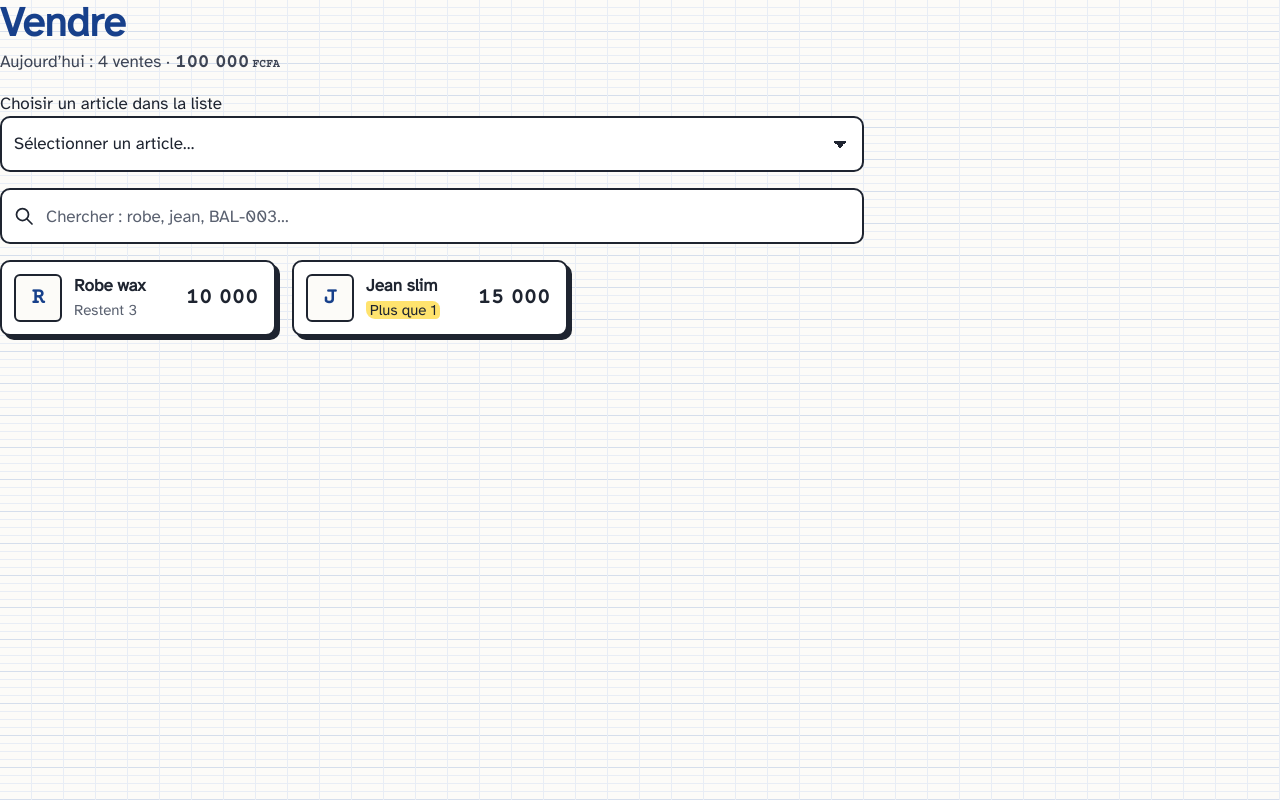
it: SalePage — the cart (phone) › a frozen cart refused for good (SQLSTATE) becomes editable again
The width and height of the screenshot is (1280, 800).
Expected: the text "Robe wax" is shown, x1=74 y1=275 x2=145 y2=296
Click the button "R Robe wax Restent 3 10 000" at (138,298), box x1=0 y1=260 x2=276 y2=336
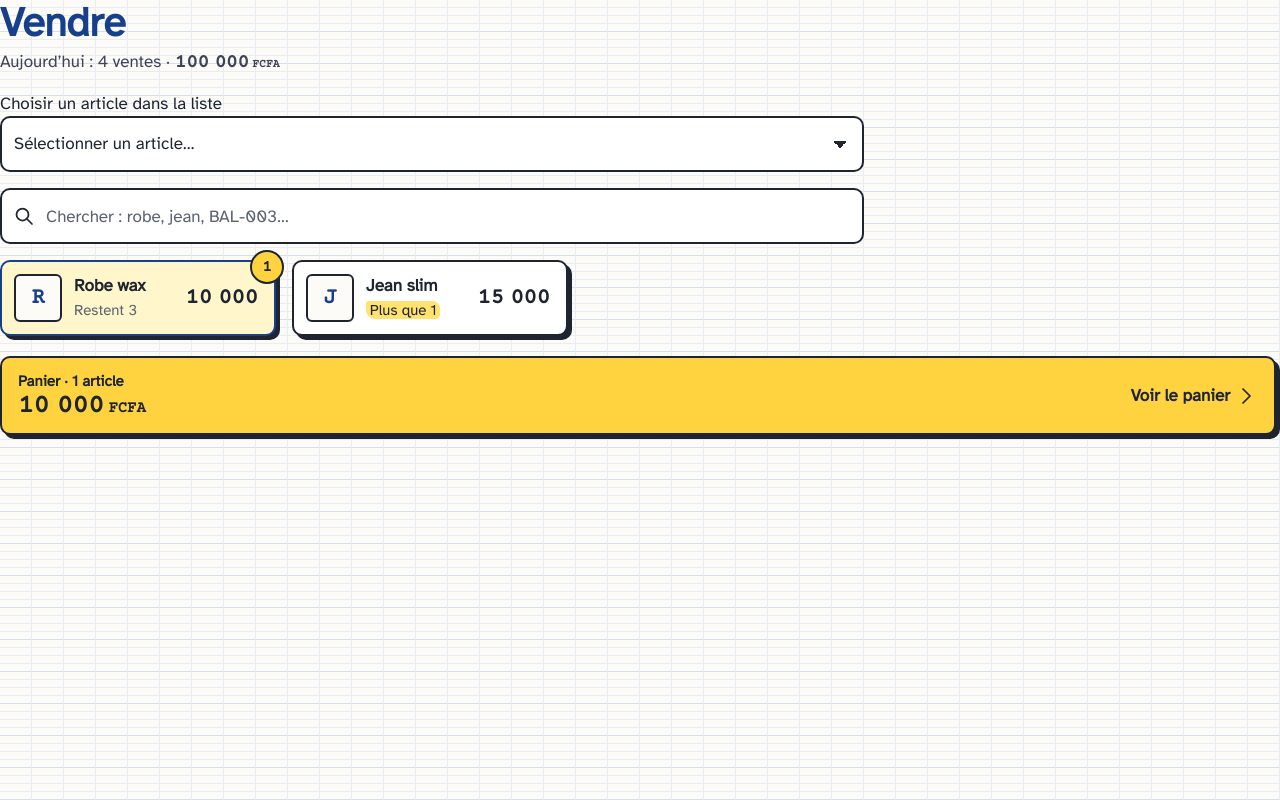
Click the button "J Jean slim Plus que 1 15 000" at (430,298), box x1=292 y1=260 x2=568 y2=336
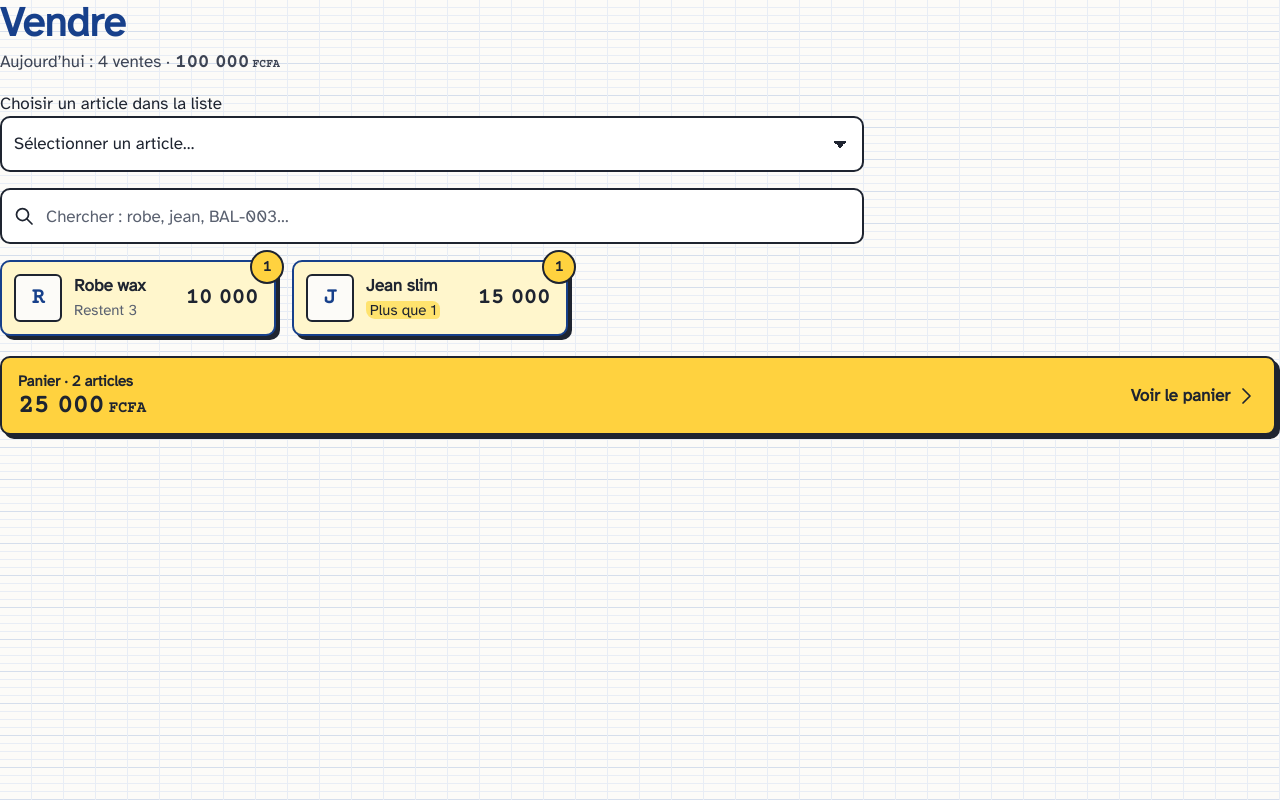
Click the button "Panier · 2 articles 25 000FCFA Voir le panier" at (39,381), box x1=0 y1=356 x2=1276 y2=435
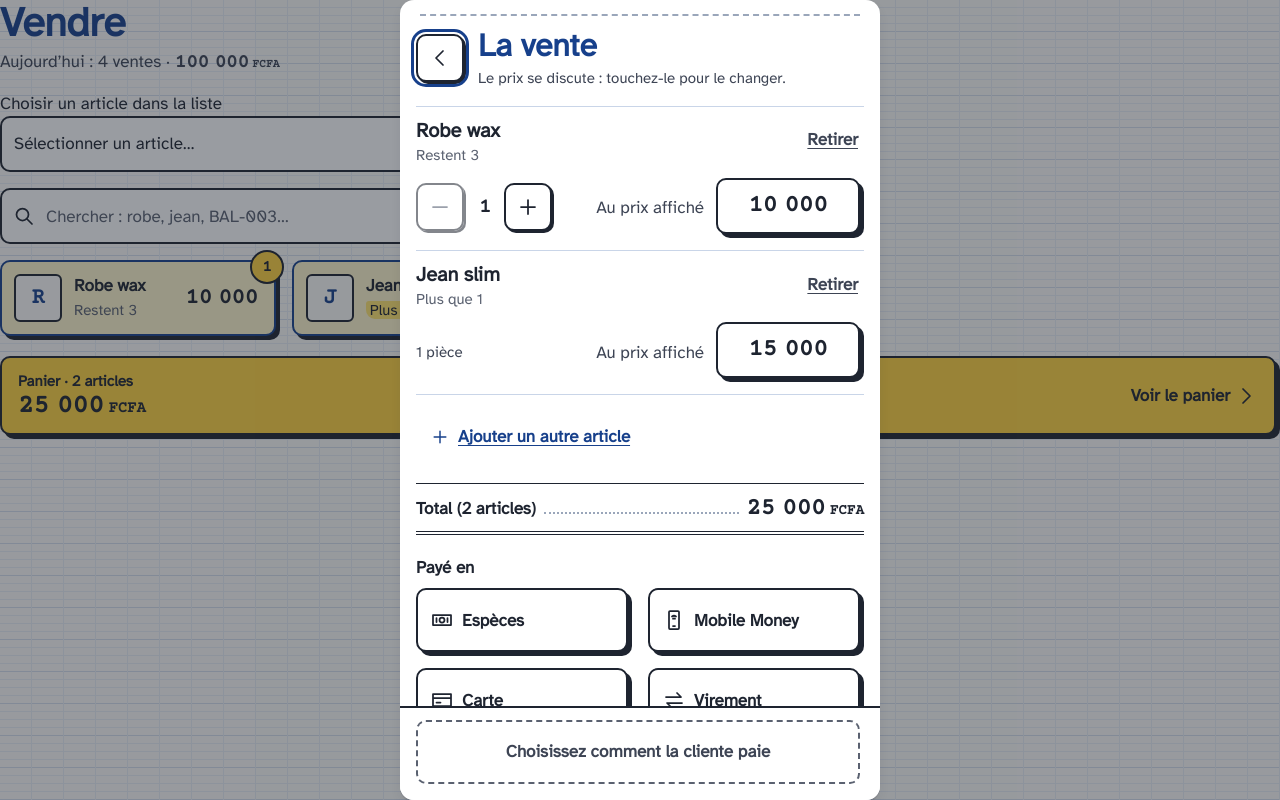
Click the radio button labelled "Carte" at (524,702), box x1=416 y1=668 x2=632 y2=736
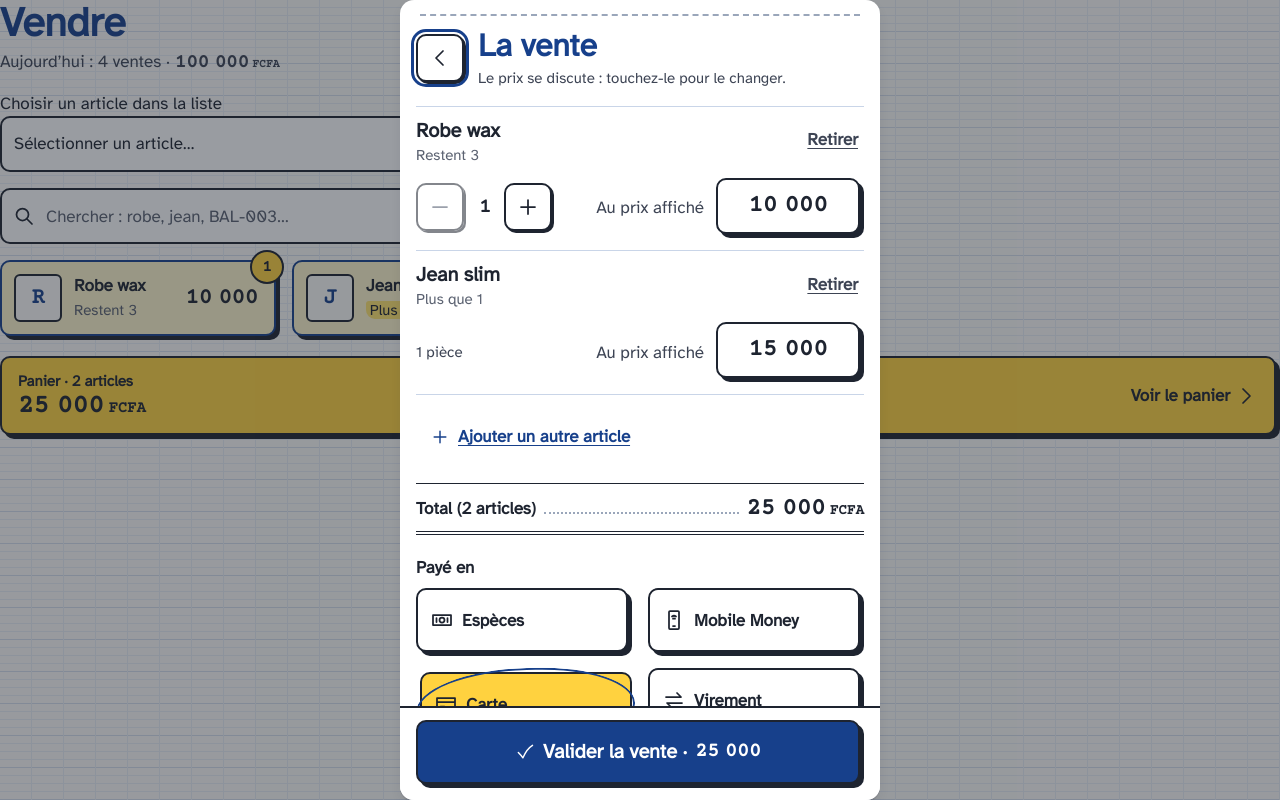
Click the button "Valider la vente · 25 000" at (638,752), box x1=416 y1=720 x2=860 y2=784
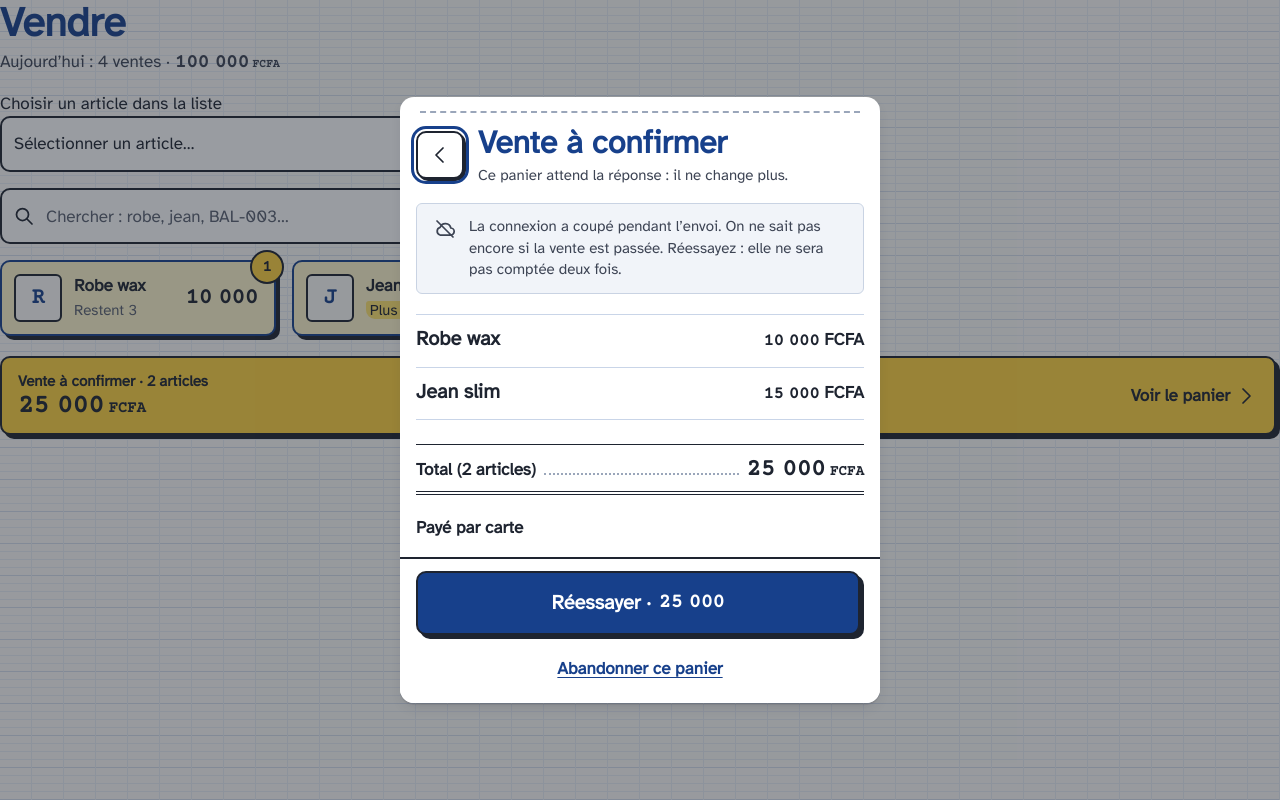
Result: the text "La connexion a coupé pendant l’envoi. On ne sait pas encore si la vente est passée. Réessayez : elle ne sera pas comptée" is shown at x1=469 y1=217 x2=824 y2=278
Click the button "Réessayer · 25 000" at (638,603), box x1=416 y1=571 x2=860 y2=635
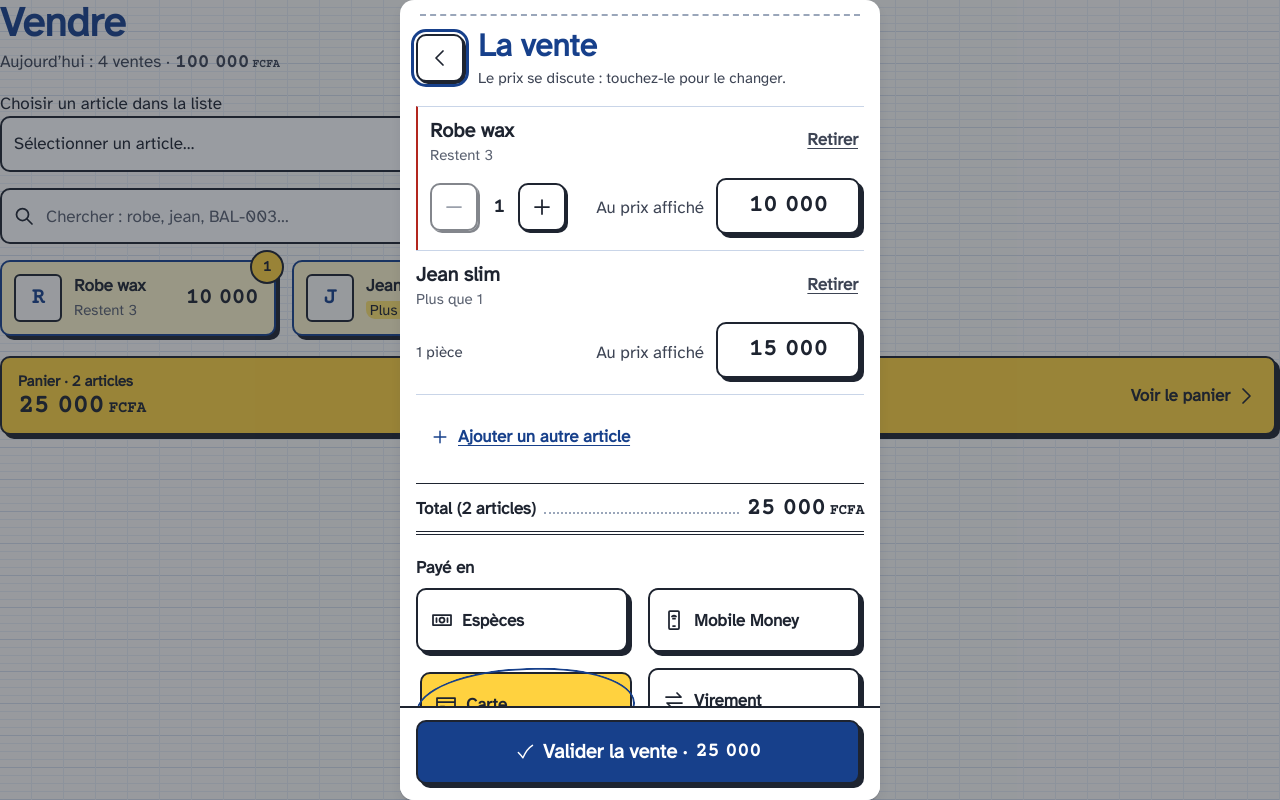
Result: the text "La connexion a coupé pendant l’envoi. On ne sait pas encore si la vente est passée. Réessayez : elle ne sera pas comptée" is gone
Result: the number of buttons "Retirer" is 2 at x1=793 y1=119 x2=872 y2=163; x1=793 y1=263 x2=872 y2=307
Result: the radio button labelled "Carte" is checked at x1=416 y1=668 x2=632 y2=736
